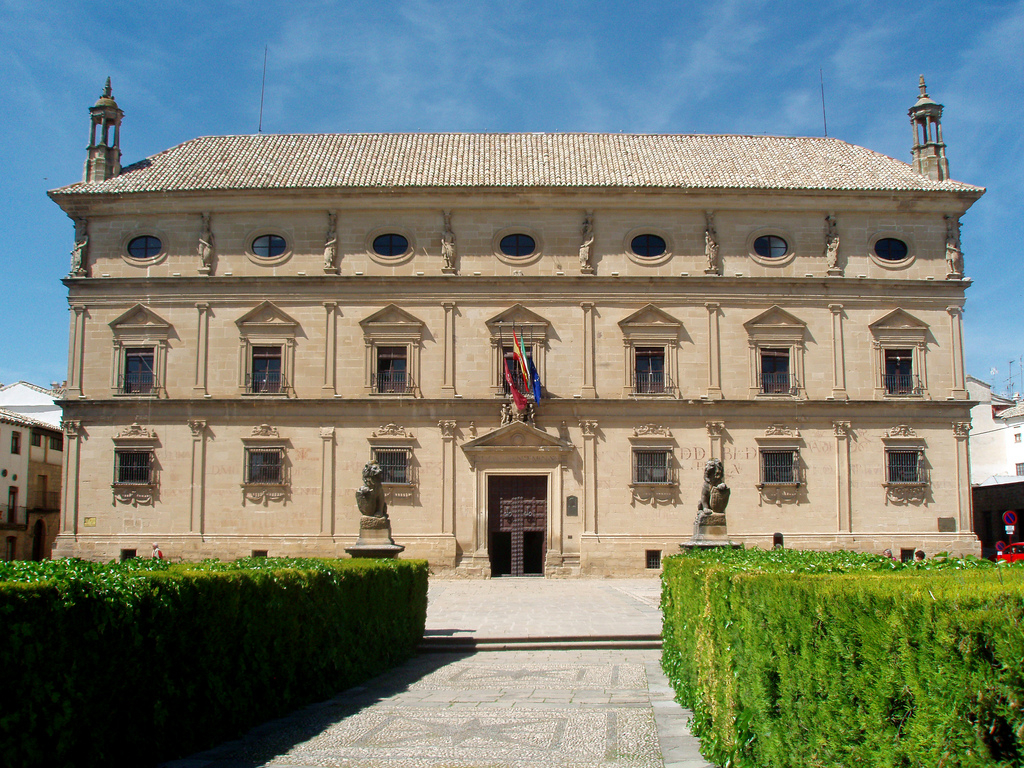fronton: (458, 418, 578, 455), (234, 298, 299, 329), (616, 301, 685, 329), (742, 302, 808, 331), (106, 301, 172, 329), (867, 306, 932, 333), (483, 303, 553, 328), (358, 302, 425, 328)
ojo-de-buey: (746, 227, 799, 267), (867, 229, 917, 267), (366, 227, 417, 263), (627, 226, 673, 264), (496, 228, 543, 263), (122, 228, 167, 263), (249, 231, 290, 263)
vano-adintelado: (471, 457, 565, 580), (621, 331, 685, 403), (744, 333, 809, 402), (361, 332, 425, 400), (871, 332, 933, 402), (109, 330, 170, 401), (236, 332, 298, 400)
